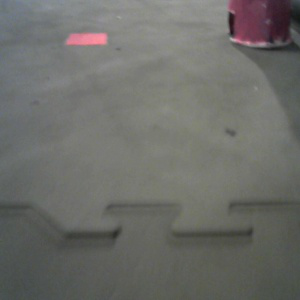Right: (227, 1, 293, 47)
